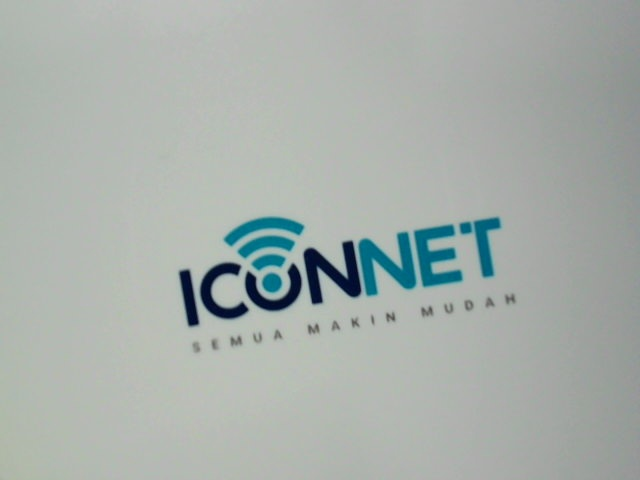BM_ICONNET: (161, 206, 531, 364)
